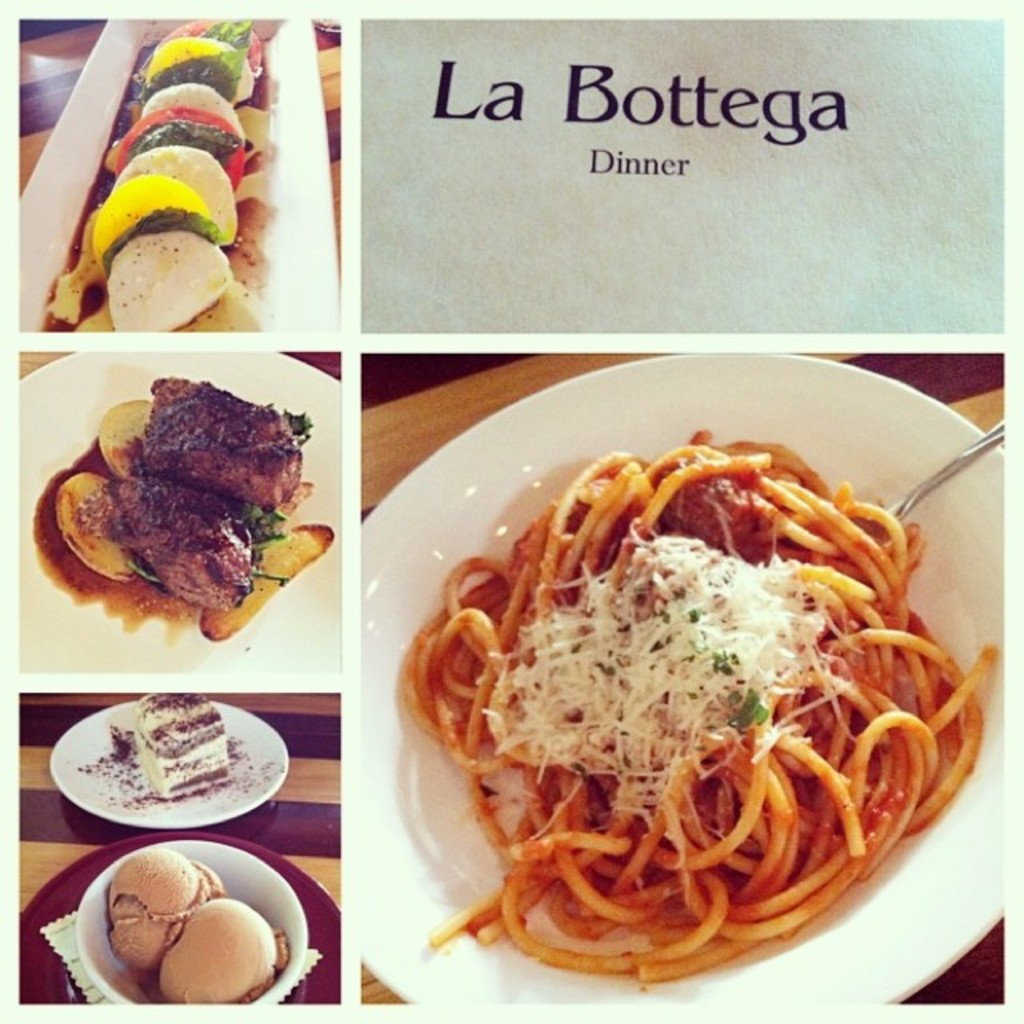pasta: (413, 445, 976, 978)
